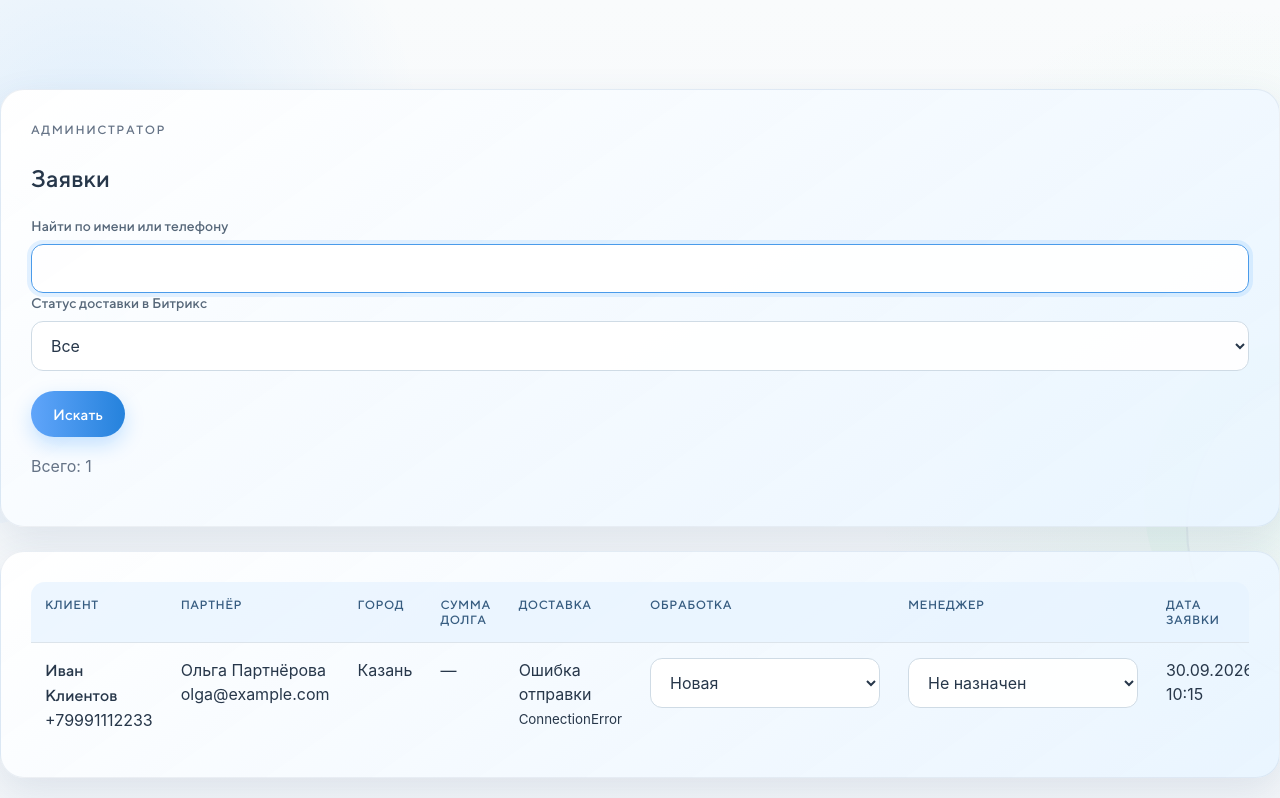
Scenario: AdminApplicationsPage › shows why a change was refused
This screenshot has width=1280, height=798.
Select "Админ Главный" in the dropdown named "Менеджер: Иван Клиентов" at (1023, 683), box [908, 658, 1138, 708]
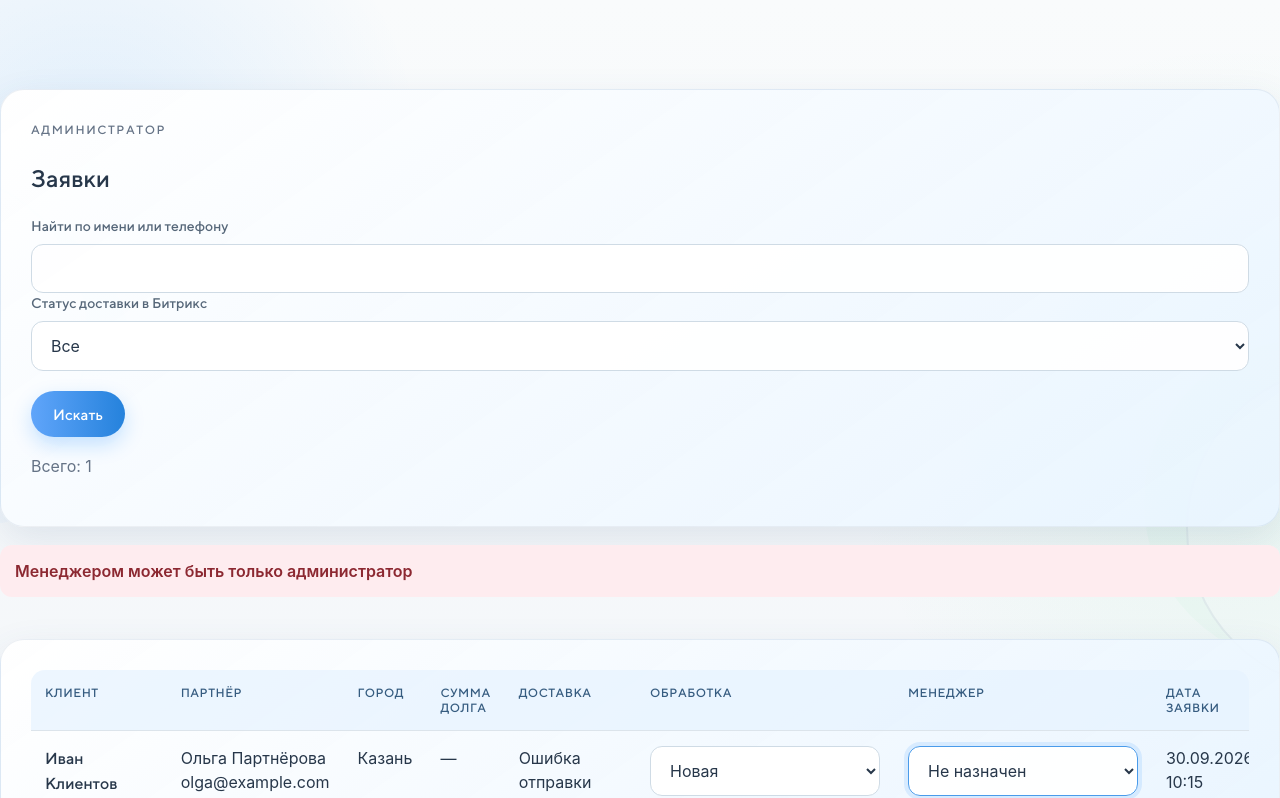
Expected: the message shows "только администратор", [15, 561, 413, 581]
